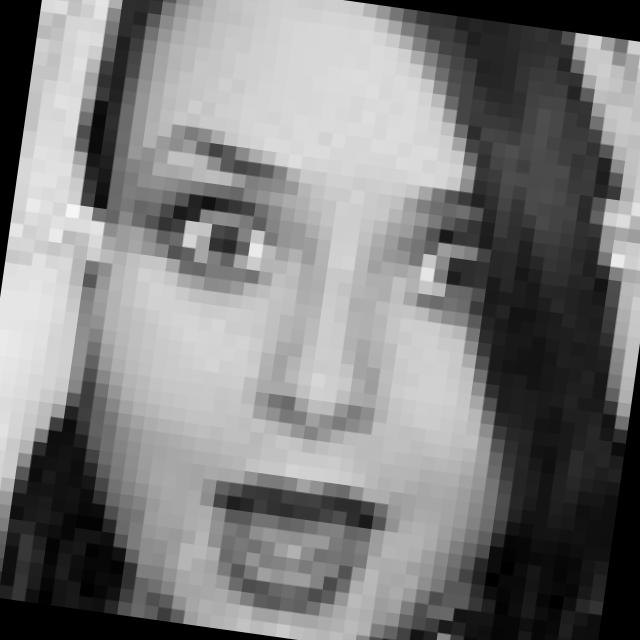surprise: (74, 110, 515, 636)
